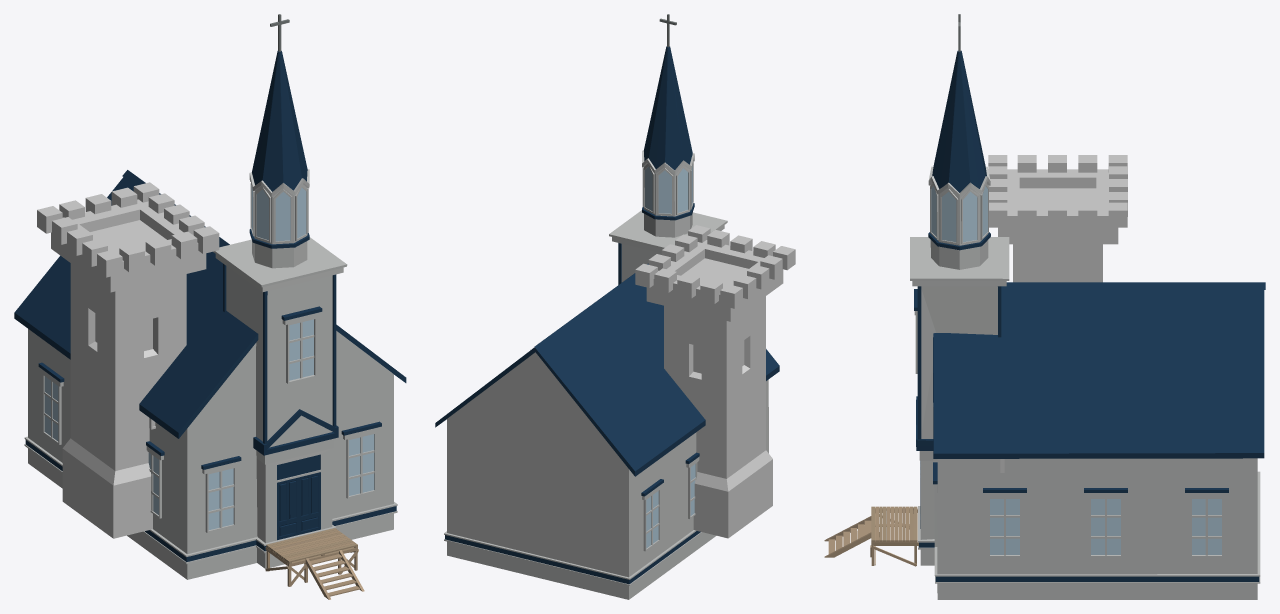
The model's file is london_bld_temple.glb.
3 renders of one model, left to right at view 1: azimuth 30°, elevation 25°; view 2: azimuth 150°, elevation 25°; view 3: azimuth 270°, elevation 25°, orthographic. The views are drawn at different scales.
Visible parts, largest first — view 1: Church, SmallSquareTower_Cube.041; view 2: Church, SmallSquareTower_Cube.041; view 3: Church, SmallSquareTower_Cube.041.
Boxes of the visible parts, x1,y1,x2,y2 form: Church: [14, 14, 406, 599]; SmallSquareTower_Cube.041: [37, 182, 219, 538]; Church: [435, 14, 779, 599]; SmallSquareTower_Cube.041: [635, 225, 795, 538]; Church: [824, 14, 1265, 599]; SmallSquareTower_Cube.041: [988, 155, 1127, 282].
Size of the model in its own units: 8 by 14.9 by 11.14.
7 materials, 1 textured.
